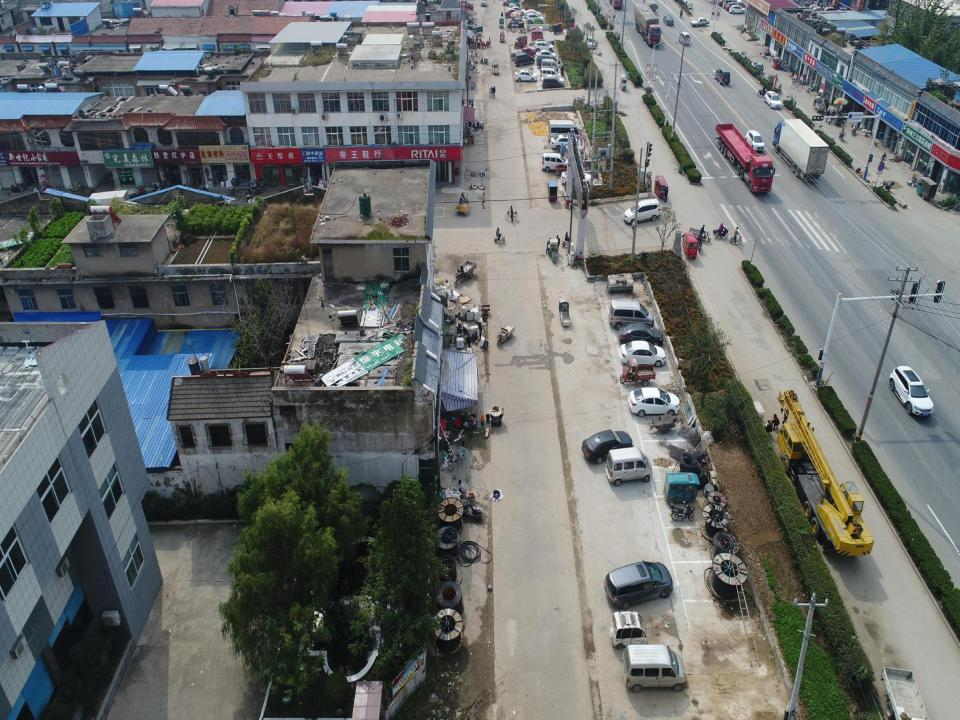car: (605, 559, 674, 609), (889, 363, 935, 420), (581, 428, 633, 464), (627, 388, 680, 418), (620, 342, 667, 367), (618, 323, 664, 347), (622, 199, 663, 225), (560, 168, 594, 188), (540, 152, 570, 174), (549, 133, 581, 153), (744, 129, 767, 152), (513, 68, 537, 84), (538, 67, 563, 82), (560, 142, 585, 156), (764, 91, 782, 109), (531, 36, 554, 50), (513, 54, 536, 68), (544, 78, 566, 92), (536, 49, 557, 63), (532, 41, 554, 53), (690, 16, 710, 28), (524, 13, 545, 23), (524, 8, 544, 18), (521, 47, 537, 59), (505, 6, 523, 16), (724, 2, 742, 11), (586, 35, 596, 51), (729, 5, 745, 15), (509, 6, 526, 15), (663, 13, 674, 26), (514, 13, 524, 22)
truck: (714, 121, 776, 194), (772, 116, 830, 183), (633, 1, 662, 47)
van: (622, 642, 687, 694), (605, 447, 652, 485), (607, 299, 656, 327), (546, 118, 582, 142), (712, 68, 731, 86), (536, 55, 558, 69), (541, 57, 559, 74), (722, 0, 737, 9)
